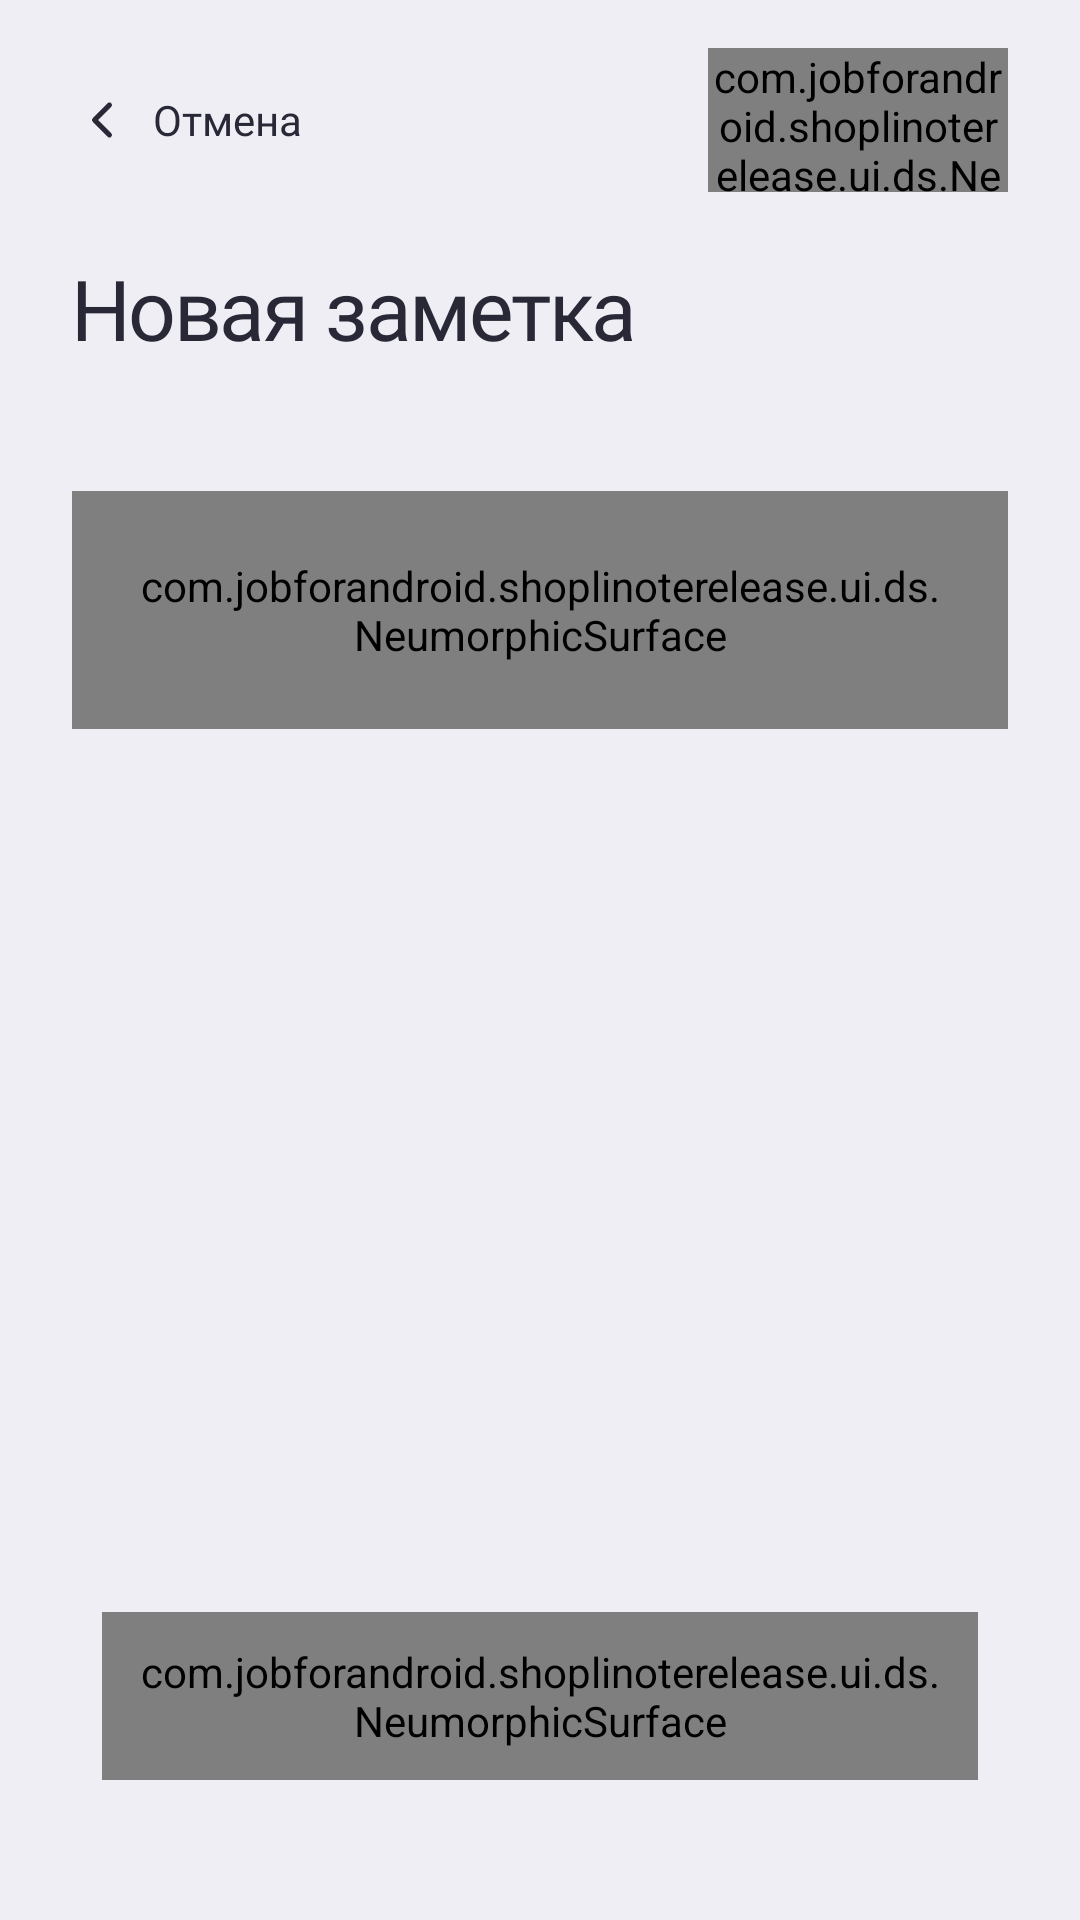

Where icons sit on this 1080px x 1920px app screen, as (x1, y1, x2, y2):
chevron left: (92, 102, 112, 138)
